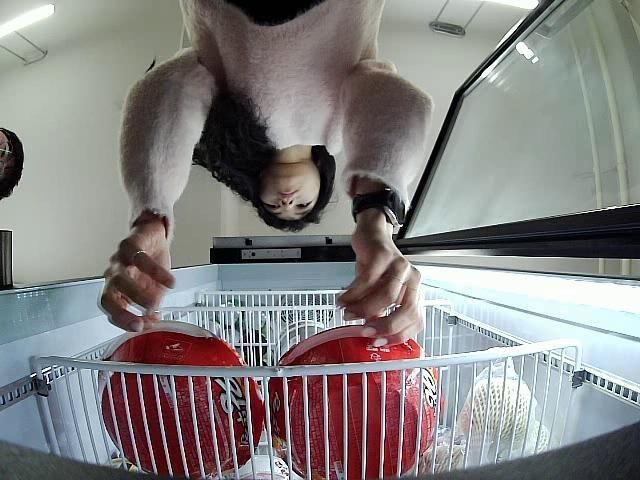10_wangTtukkeong: (267, 325, 442, 480), (96, 322, 262, 478)
